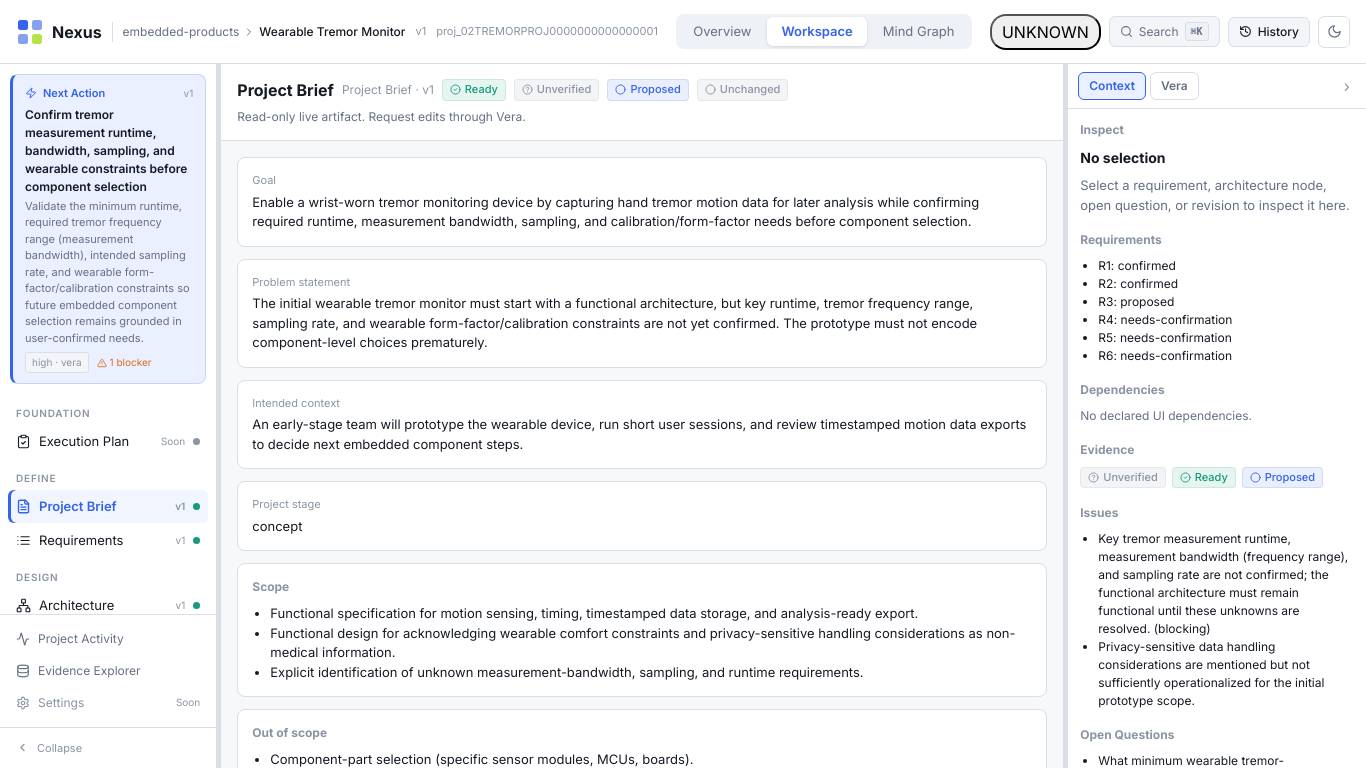
Scenario: Nexus web routing and project workspace › disables send while a turn is in flight
The image size is (1366, 768).
Click the tab "Vera". click: (1174, 86)
box: [1150, 72, 1199, 100]
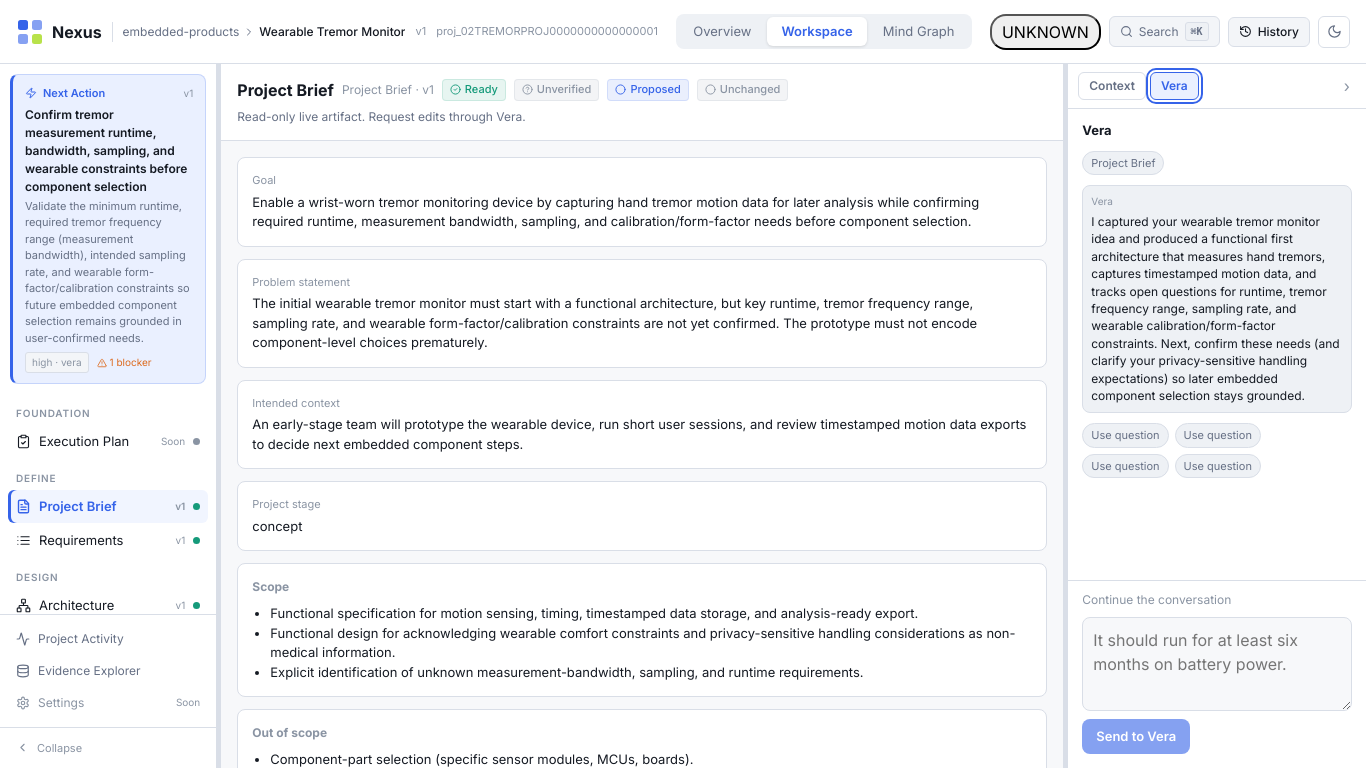
Result: the heading "Vera" is shown at [1082, 121, 1112, 140]
Type "Need six months battery" into the text box labelled "Continue the conversation". click: (1217, 664)
box: [1082, 616, 1352, 710]
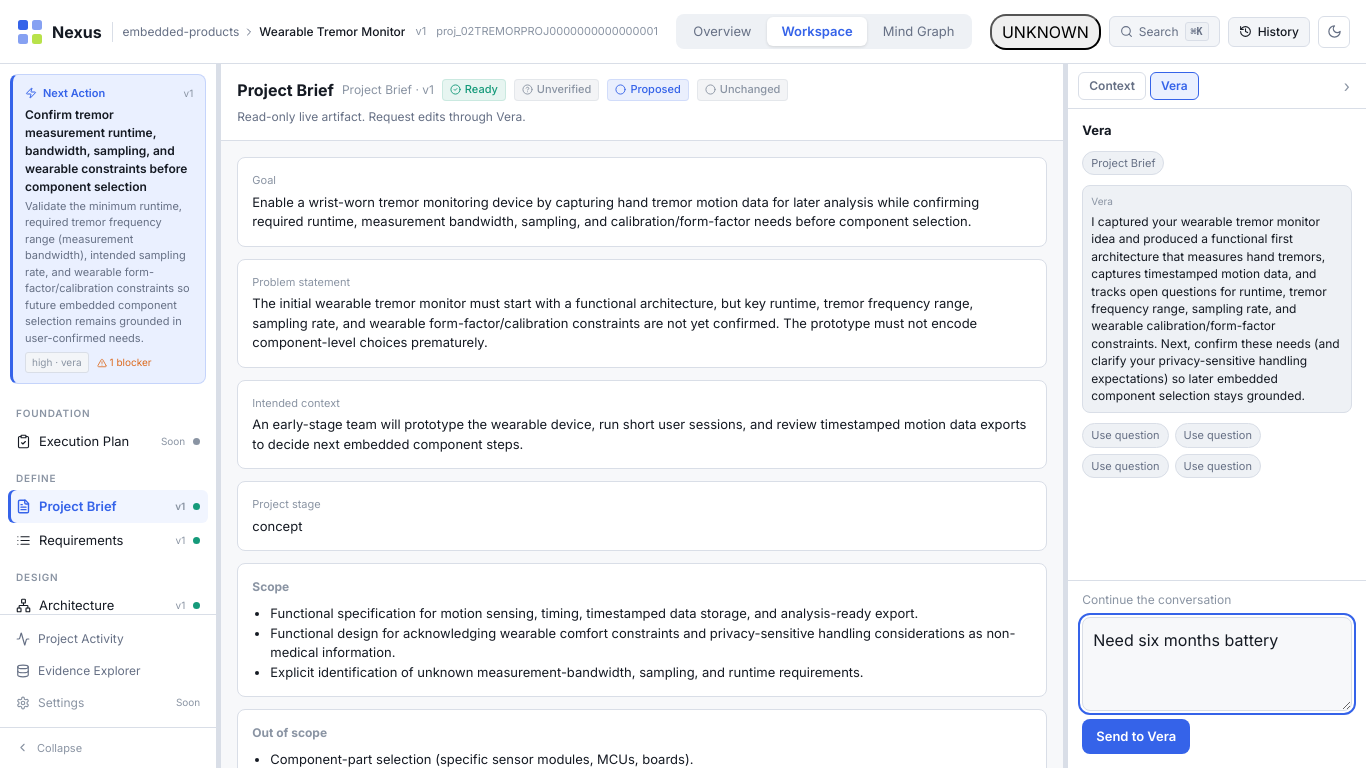
Result: the button "Send to Vera" is enabled
Click the button "Send to Vera". click: (1136, 736)
box: [1082, 718, 1190, 754]
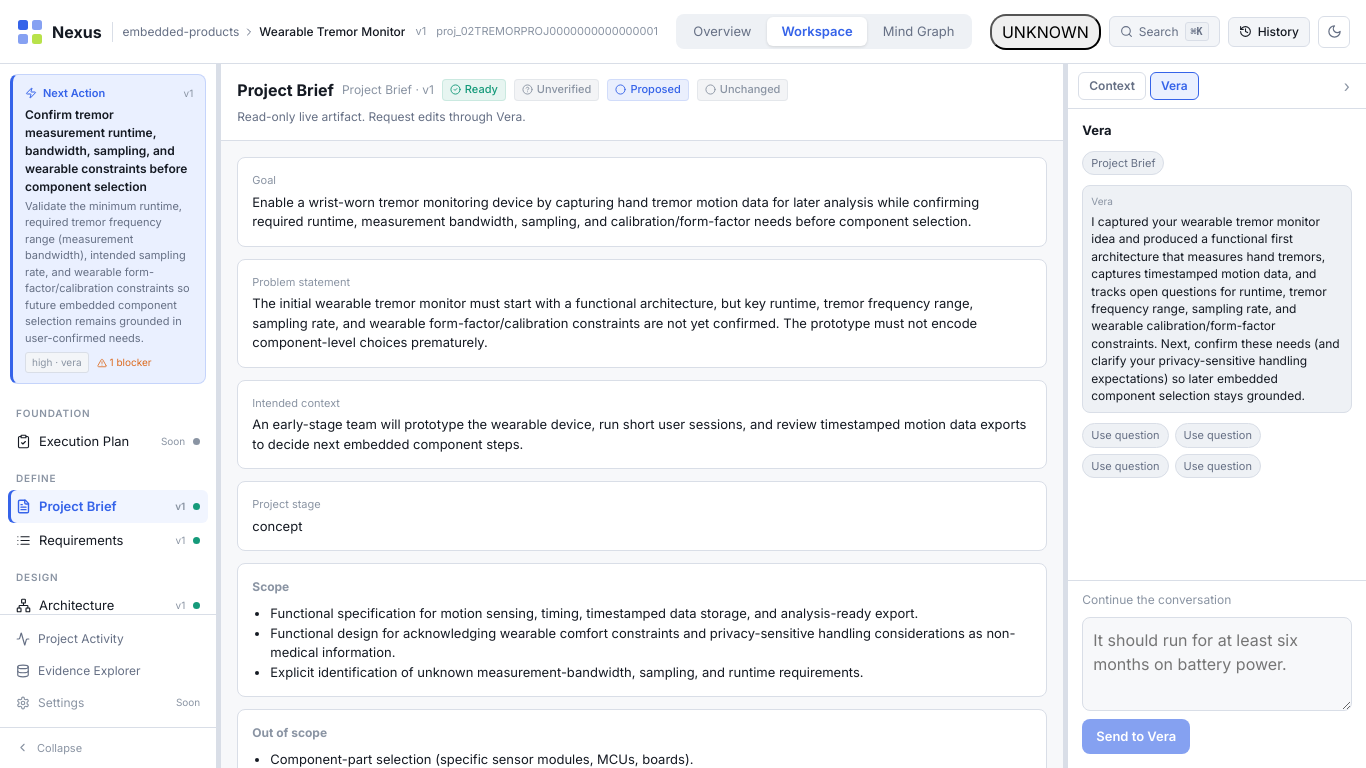
Result: the button named "Updating" is disabled at [1082, 718, 1190, 754]
